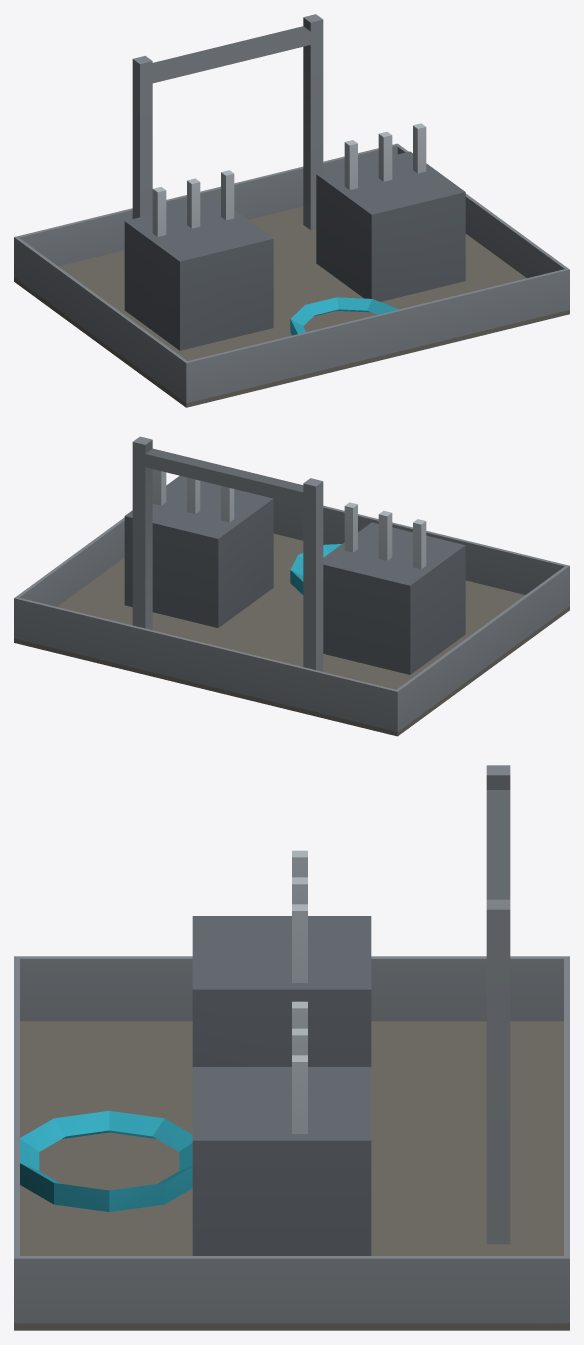
Rendered from substation.fbx.
3 renders of one model, top to bottom at view 1: azimuth 30°, elevation 25°; view 2: azimuth 150°, elevation 25°; view 3: azimuth 270°, elevation 25°, orthographic. The views are drawn at different scales.
Parts seen in each view (by area): view 1: substation; view 2: substation; view 3: substation.
Part boxes in pixels (x1=…): substation: x1=14, y1=14, x2=569, y2=407; substation: x1=14, y1=436, x2=569, y2=736; substation: x1=14, y1=765, x2=569, y2=1330.
Size of the model in its own units: 18 by 9.5 by 14.
